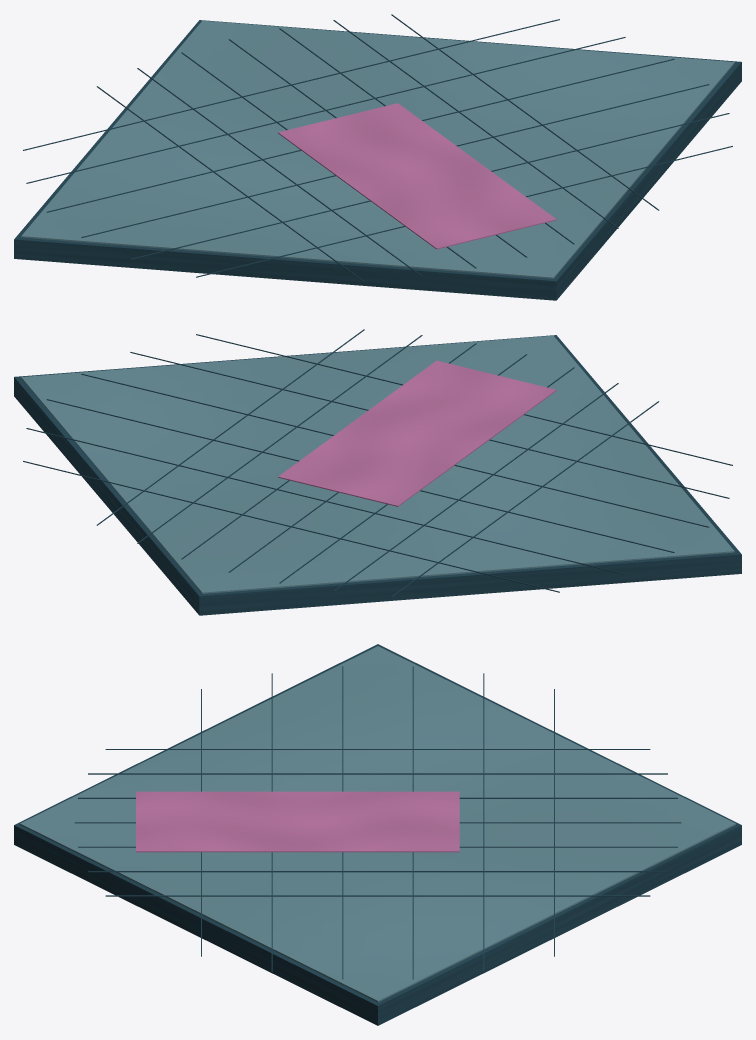
The model's file is atlas100-s064-a07.lod2.glb.
The picture shows the model from 3 angles, top to bottom: view 1: azimuth 30°, elevation 25°; view 2: azimuth 150°, elevation 25°; view 3: azimuth 270°, elevation 25°; orthographic projection.
Parts seen in each view (by area): view 1: atlas100-s064-a07:part-001, atlas100-s064-a07:part-021, atlas100-s064-a07:part-000, atlas100-s064-a07:part-015, atlas100-s064-a07:part-014, atlas100-s064-a07:part-016, atlas100-s064-a07:part-017, atlas100-s064-a07:part-018, atlas100-s064-a07:part-019, atlas100-s064-a07:part-009, atlas100-s064-a07:part-005, atlas100-s064-a07:part-010 (+1 smaller); view 2: atlas100-s064-a07:part-001, atlas100-s064-a07:part-021, atlas100-s064-a07:part-000, atlas100-s064-a07:part-015, atlas100-s064-a07:part-014, atlas100-s064-a07:part-016, atlas100-s064-a07:part-017, atlas100-s064-a07:part-018, atlas100-s064-a07:part-019, atlas100-s064-a07:part-009, atlas100-s064-a07:part-005, atlas100-s064-a07:part-004 (+1 smaller); view 3: atlas100-s064-a07:part-001, atlas100-s064-a07:part-021, atlas100-s064-a07:part-000, atlas100-s064-a07:part-005, atlas100-s064-a07:part-009, atlas100-s064-a07:part-010.
Part boxes in pixels (<box>): atlas100-s064-a07:part-001: <box>21,20,734,278</box>; atlas100-s064-a07:part-021: <box>278,103,556,249</box>; atlas100-s064-a07:part-000: <box>14,20,741,300</box>; atlas100-s064-a07:part-015: <box>26,37,625,183</box>; atlas100-s064-a07:part-014: <box>23,19,559,150</box>; atlas100-s064-a07:part-016: <box>46,58,674,212</box>; atlas100-s064-a07:part-017: <box>81,84,709,237</box>; atlas100-s064-a07:part-018: <box>130,113,729,259</box>; atlas100-s064-a07:part-019: <box>196,146,732,277</box>; atlas100-s064-a07:part-009: <box>333,20,618,228</box>; atlas100-s064-a07:part-005: <box>137,68,422,276</box>; atlas100-s064-a07:part-010: <box>391,14,659,210</box>; atlas100-s064-a07:part-001: <box>21,335,734,593</box>; atlas100-s064-a07:part-021: <box>278,360,556,506</box>; atlas100-s064-a07:part-000: <box>14,335,741,615</box>; atlas100-s064-a07:part-015: <box>26,428,625,574</box>; atlas100-s064-a07:part-014: <box>23,461,559,592</box>; atlas100-s064-a07:part-016: <box>46,399,674,552</box>; atlas100-s064-a07:part-017: <box>81,373,709,527</box>; atlas100-s064-a07:part-018: <box>130,352,729,498</box>; atlas100-s064-a07:part-019: <box>196,334,732,465</box>; atlas100-s064-a07:part-009: <box>137,335,422,543</box>; atlas100-s064-a07:part-005: <box>333,383,618,591</box>; atlas100-s064-a07:part-004: <box>391,401,659,597</box>; atlas100-s064-a07:part-001: <box>20,646,735,1002</box>; atlas100-s064-a07:part-021: <box>136,791,459,852</box>; atlas100-s064-a07:part-000: <box>14,644,741,1025</box>; atlas100-s064-a07:part-005: <box>88,773,667,774</box>; atlas100-s064-a07:part-009: <box>88,871,667,872</box>; atlas100-s064-a07:part-010: <box>105,895,650,896</box>.
Size of the model in its own units: 13.35 by 0.404 by 11.34.
Materials: 3 (3 with a texture image).
